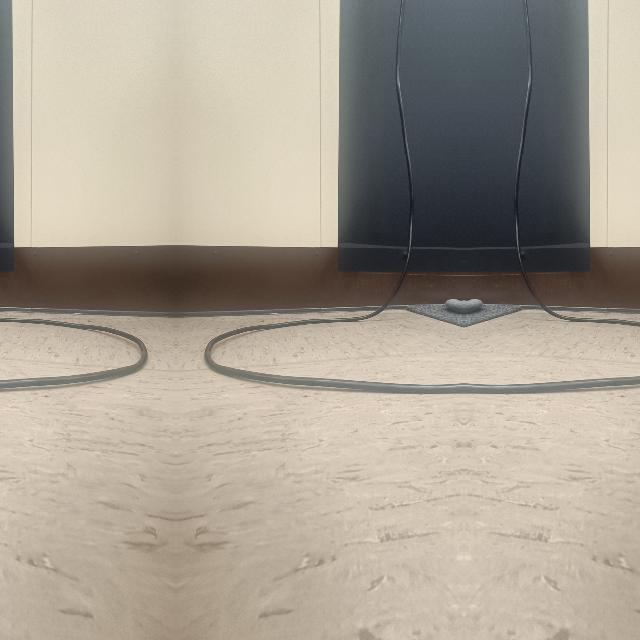obstacle: (202, 316, 463, 392), (463, 315, 640, 392), (0, 315, 147, 392)
